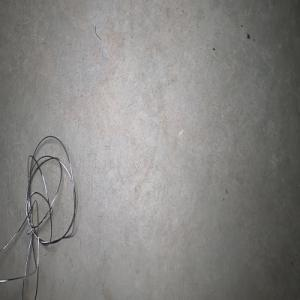Wire: (0, 135, 75, 300)
